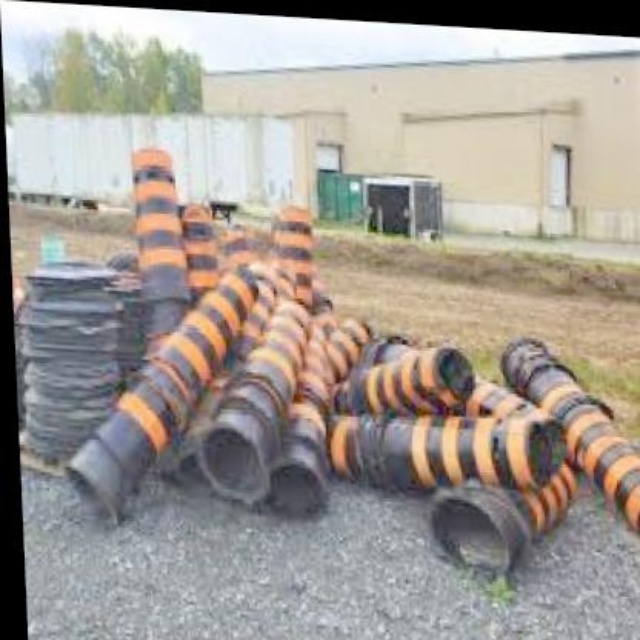obstacle: (124, 137, 196, 303)
